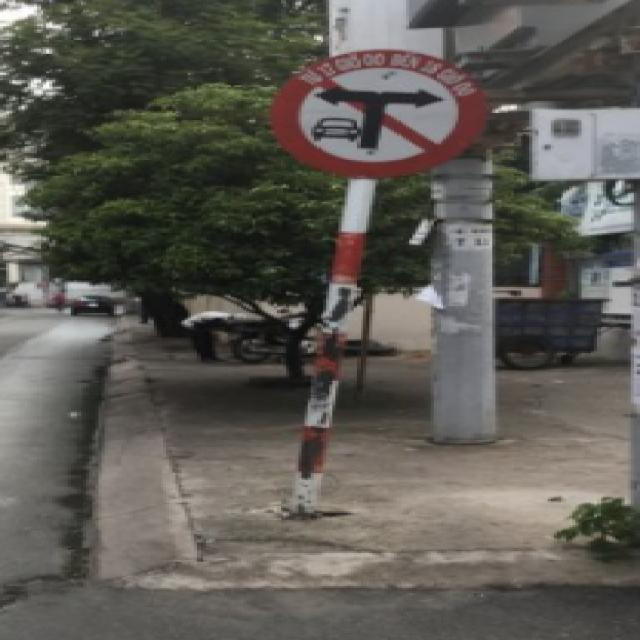137-cam-re-trai-va-re-phai: (269, 48, 481, 178)
